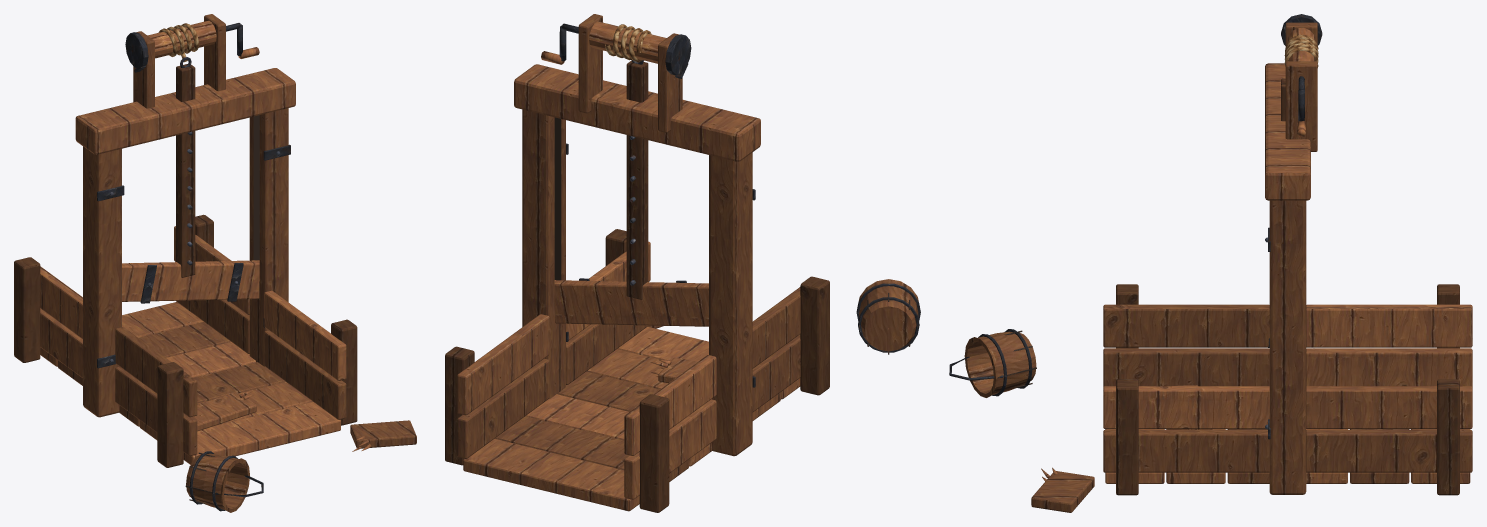
Rendered from hw_burst_sluice.glb.
3 views of the same model, side by side, from view 1: azimuth 30°, elevation 25°; view 2: azimuth 150°, elevation 25°; view 3: azimuth 270°, elevation 25° (orthographic). The views are drawn at different scales.
Parts seen in each view (by area): view 1: model; view 2: model; view 3: model.
Boxes of the visible parts, x1,y1,x2,y2 form: model: (14,14,416,512); model: (445,14,920,512); model: (949,14,1472,512).
Bounding box in the file's own units: 1.43 × 1.95 × 2.28.
8 materials, 7 textured.
